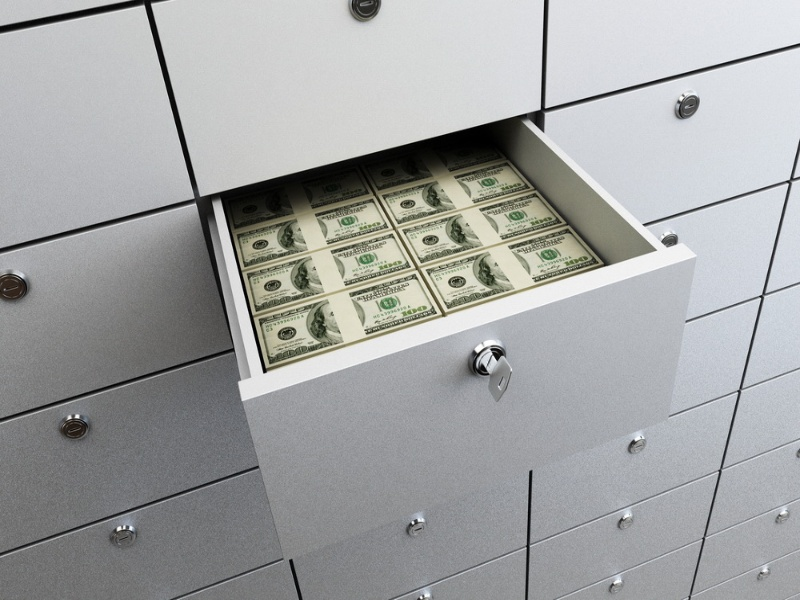cash: (224, 146, 606, 370)
